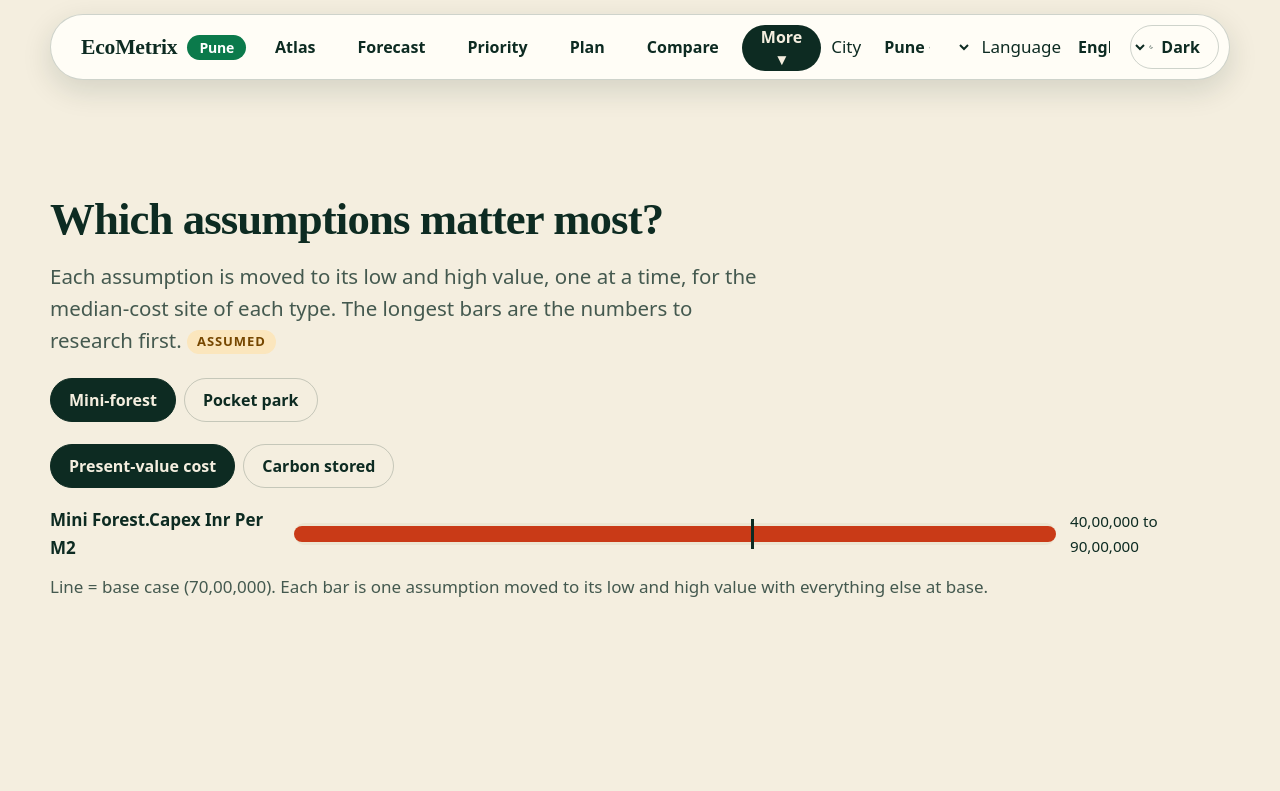
Test: evaluation screen and navigation › shows the tornado, the honest-claims table and the human checks that are still to do
(page scrolled)
Expected: the text "mini forest.capex inr per m2" is shown, [50,506,280,561]
Click the tab "Pocket park": (251, 400) [184,378,318,422]
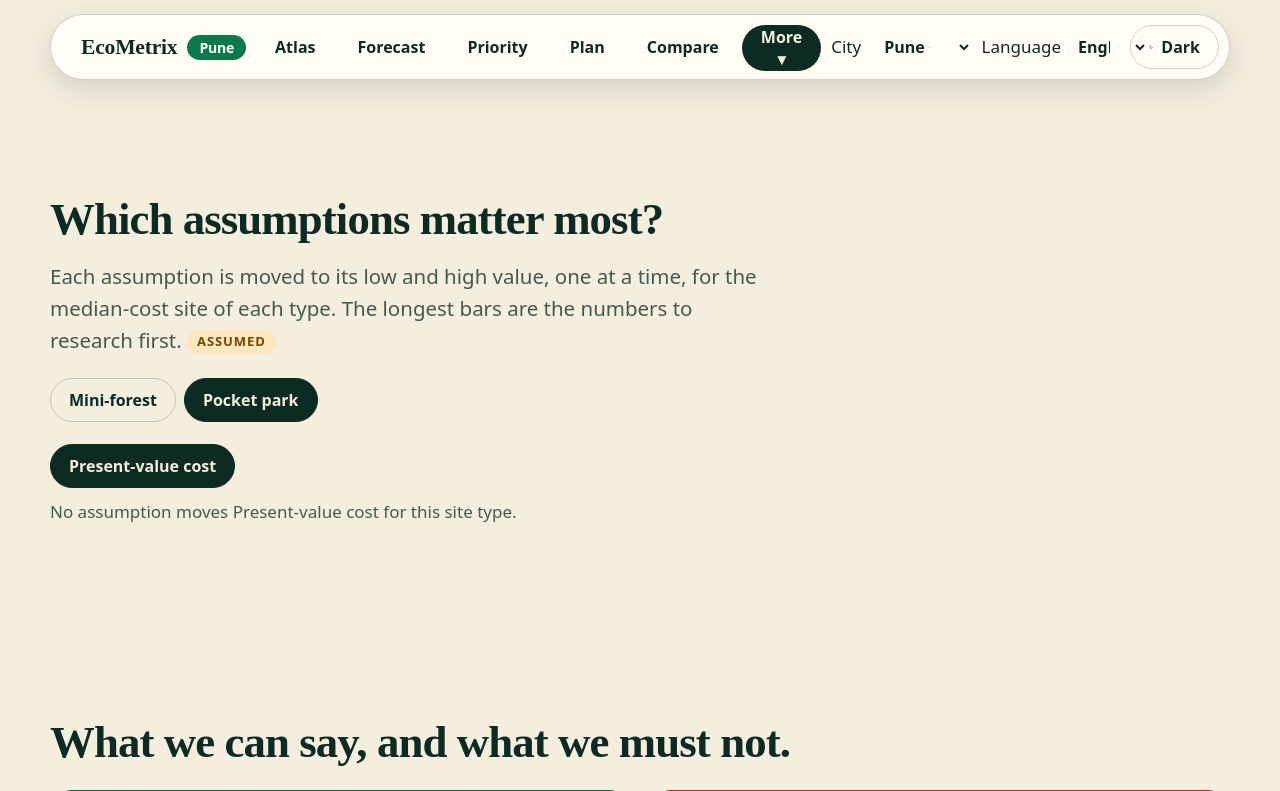
Result: the text "No assumption moves Present-value cost for this site type." is shown at [50,500,516,523]
